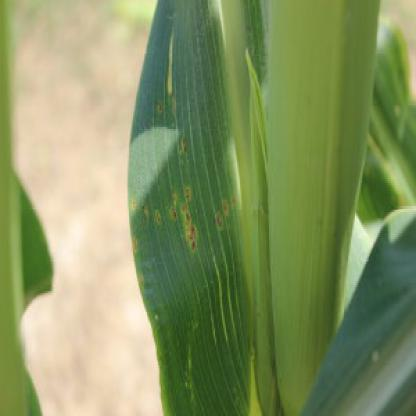Corn rust leaf: (128, 6, 260, 414)
